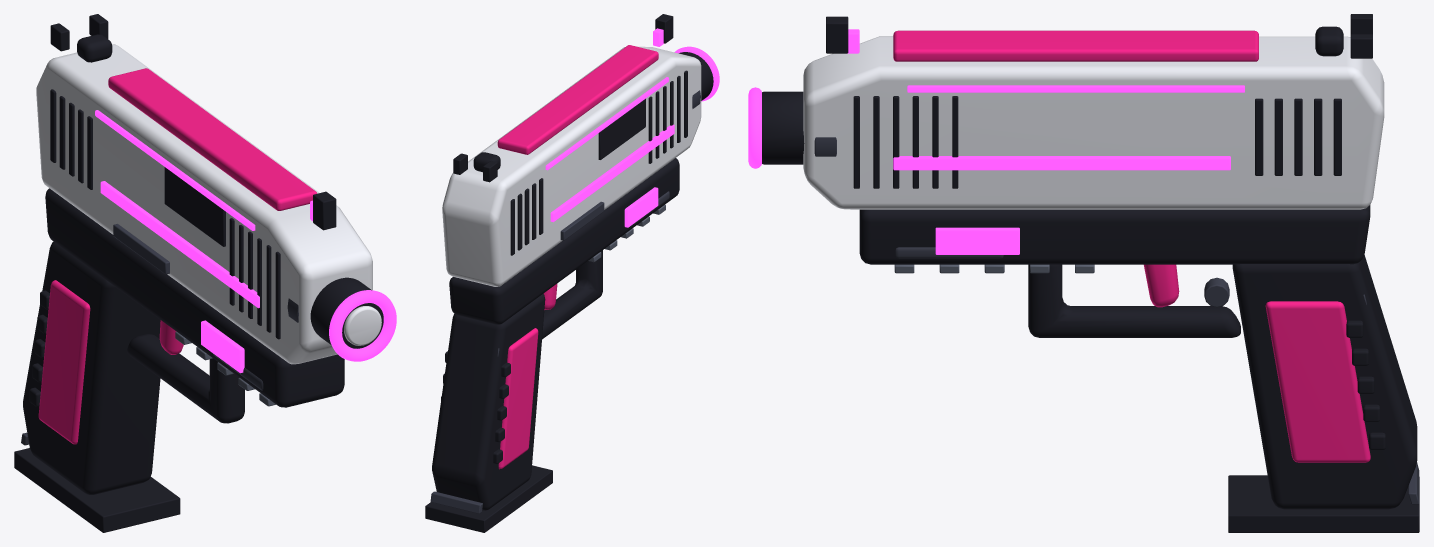
File: Blaster.fbx
3 renders of one model, left to right at view 1: azimuth 30°, elevation 25°; view 2: azimuth 150°, elevation 25°; view 3: azimuth 270°, elevation 25°, orthographic. The views are drawn at different scales.
Parts seen in each view (by area): view 1: Blaster_Pistola_Estandar_Mesh, Blaster_Detalle_Pistola; view 2: Blaster_Pistola_Estandar_Mesh, Blaster_Detalle_Pistola; view 3: Blaster_Pistola_Estandar_Mesh, Blaster_Detalle_Pistola.
Part boxes in pixels (x1,y1,x2,y2): Blaster_Pistola_Estandar_Mesh: (23,34,396,494); Blaster_Detalle_Pistola: (14,14,336,532); Blaster_Pistola_Estandar_Mesh: (432,28,719,510); Blaster_Detalle_Pistola: (425,14,700,532); Blaster_Pistola_Estandar_Mesh: (748,26,1417,509); Blaster_Detalle_Pistola: (814,14,1419,532).
Bounding box in the file's own units: 6.29 × 30.97 × 38.
